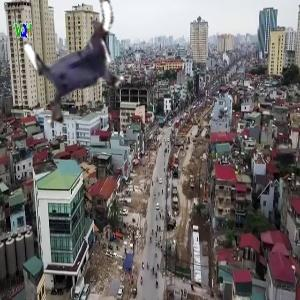drone: (17, 2, 142, 127)
